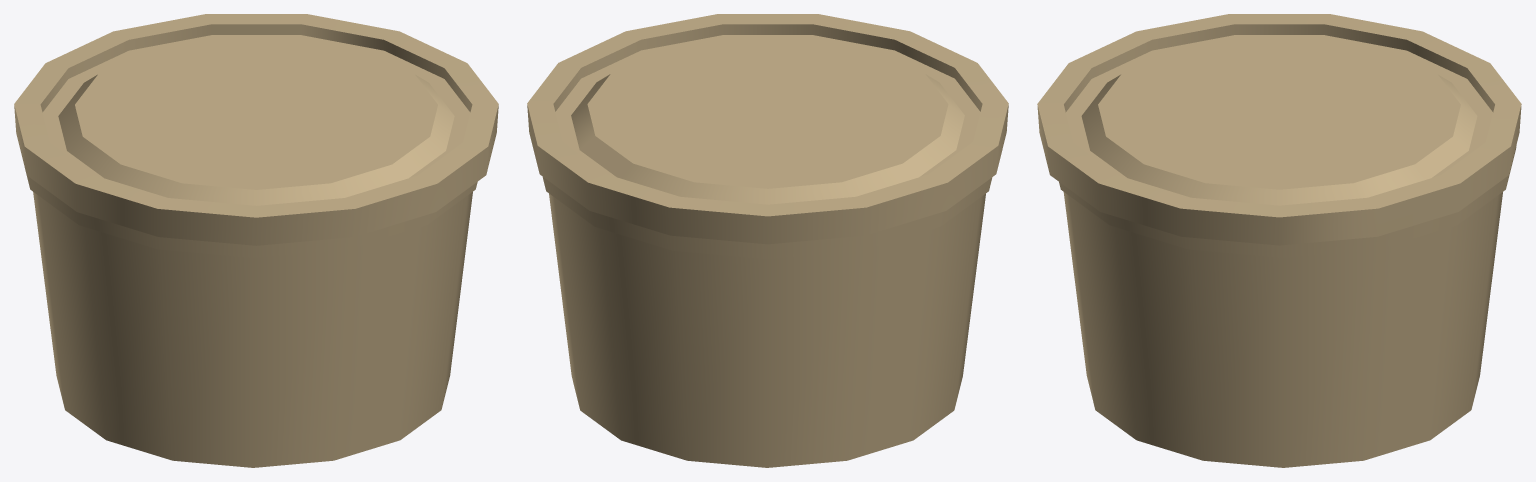
Rendered from Soup.FBX.
3 renders of one model, left to right at view 1: azimuth 30°, elevation 25°; view 2: azimuth 150°, elevation 25°; view 3: azimuth 270°, elevation 25°, orthographic.
Parts seen in each view (by area): view 1: soup bowl, soup lid; view 2: soup bowl, soup lid; view 3: soup bowl, soup lid.
Boxes of the visible parts, x1,y1,x2,y2 form: soup bowl: (26, 175, 477, 467); soup lid: (14, 14, 498, 245); soup bowl: (542, 177, 992, 467); soup lid: (527, 14, 1008, 244); soup bowl: (1059, 145, 1516, 467); soup lid: (1037, 14, 1521, 245).
Size of the model in its own units: 0.1151 by 0.0718 by 0.1157.
